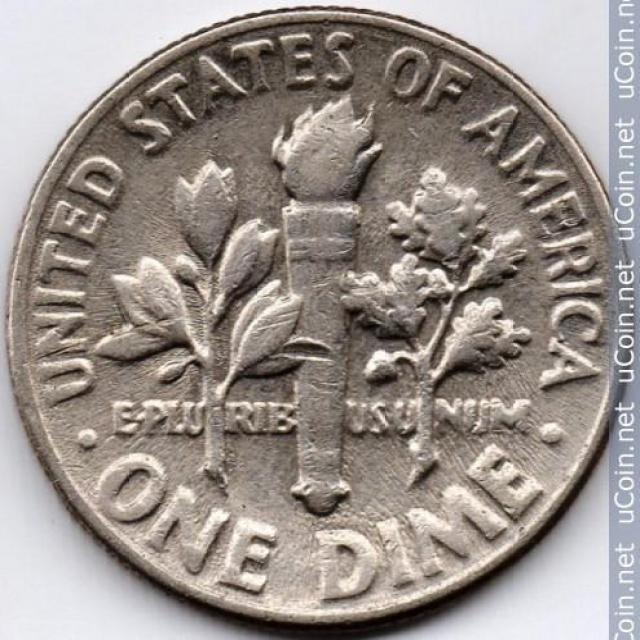Dime: (7, 11, 638, 638)
